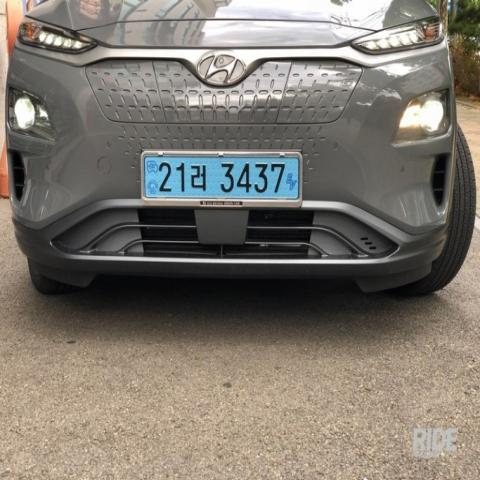LP: (135, 142, 306, 210)
